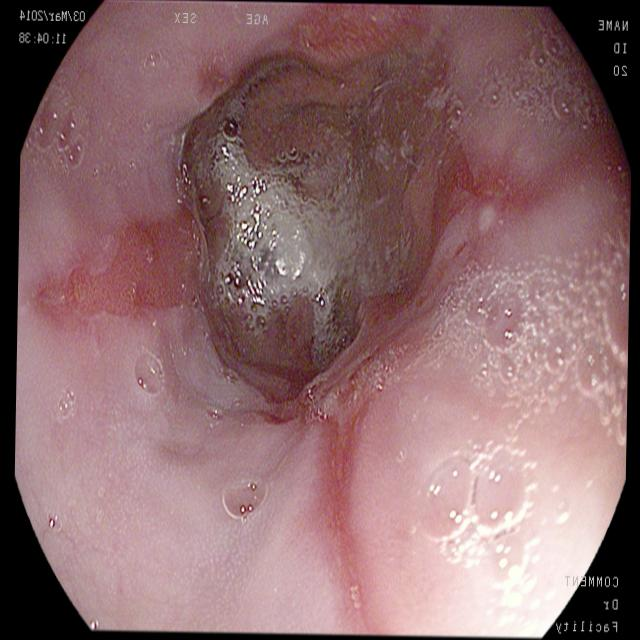esophagitis: (14, 0, 637, 634)
